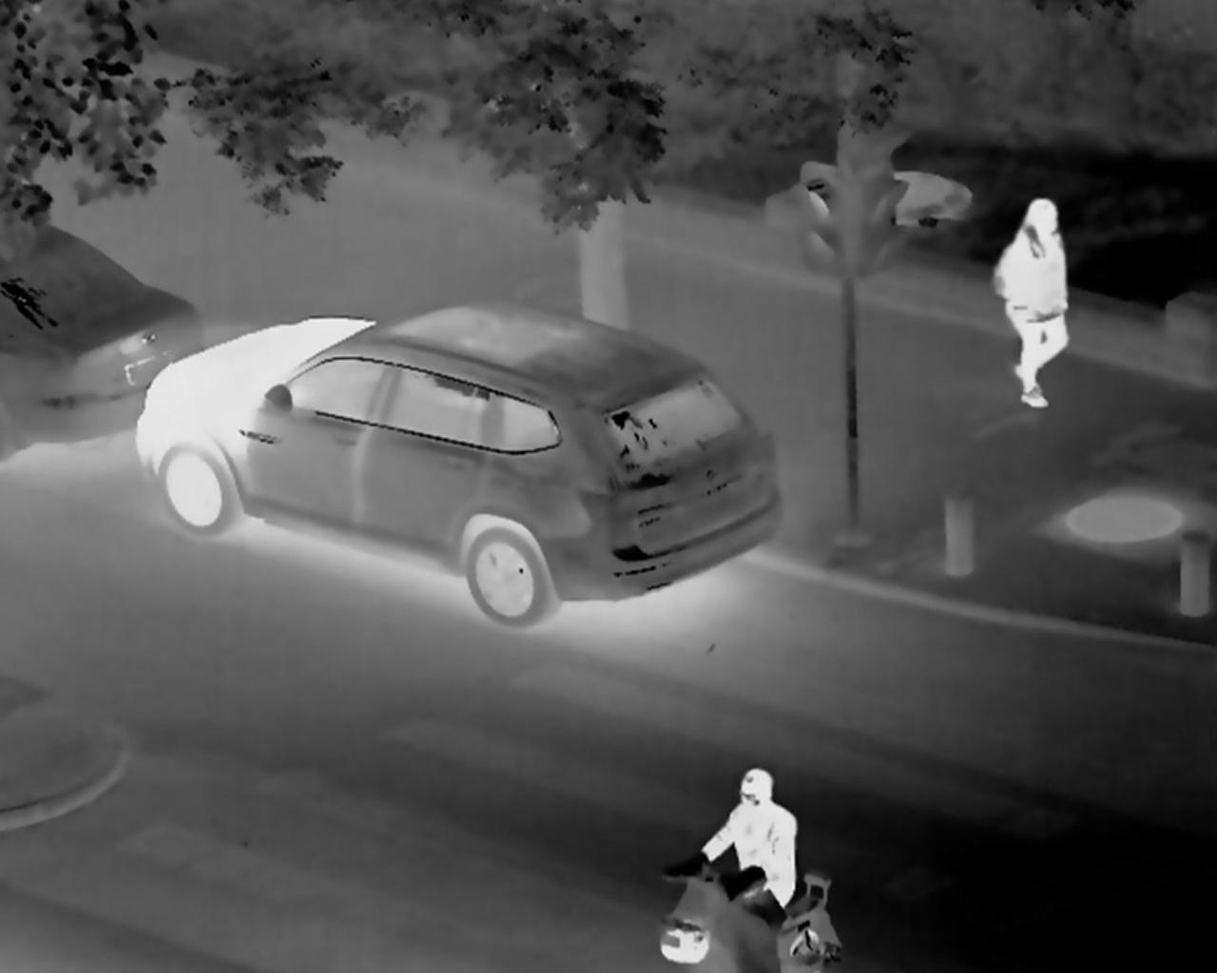person: (984, 204, 1099, 407), (713, 752, 822, 923)
